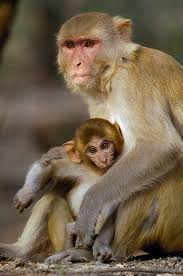monkey: (37, 13, 176, 236), (16, 112, 139, 248)
